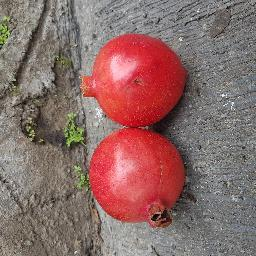Good_pomegranate: (88, 130, 192, 234), (76, 33, 192, 126)
